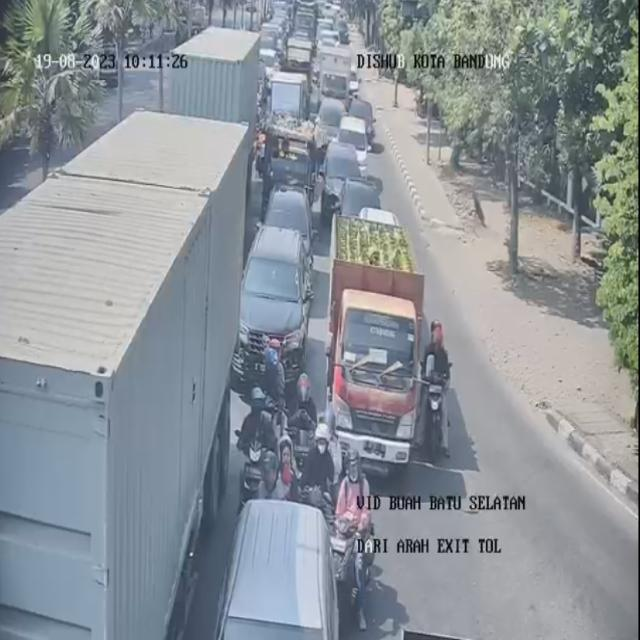cars: (210, 496, 342, 638), (237, 222, 312, 372), (265, 187, 314, 266), (324, 141, 363, 210), (337, 175, 378, 237), (317, 47, 349, 117), (337, 114, 370, 174), (285, 42, 312, 94), (318, 96, 342, 142), (258, 47, 281, 76)
motorcycle: (333, 448, 383, 600), (285, 366, 325, 499), (244, 385, 278, 499), (304, 429, 334, 543), (422, 318, 451, 424), (258, 342, 288, 437), (256, 130, 271, 198), (258, 92, 268, 134)
truck: (0, 110, 249, 638), (330, 215, 430, 472), (172, 25, 260, 131), (264, 67, 308, 149)
